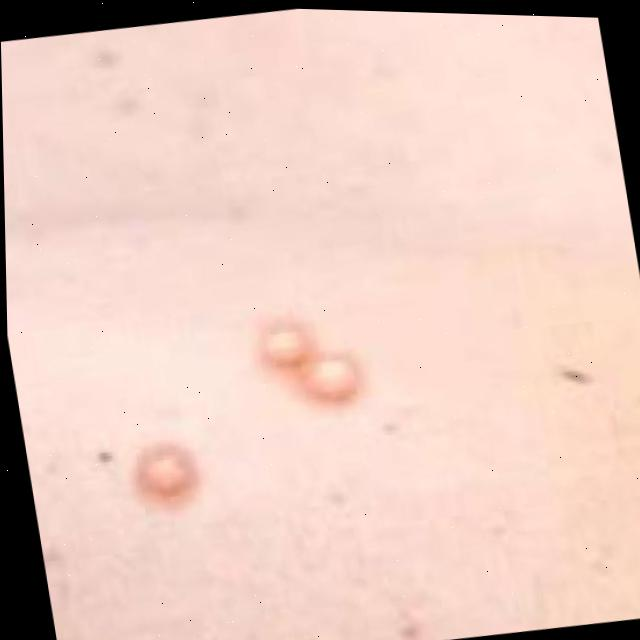Eczema: (256, 304, 366, 418), (119, 418, 213, 512)
